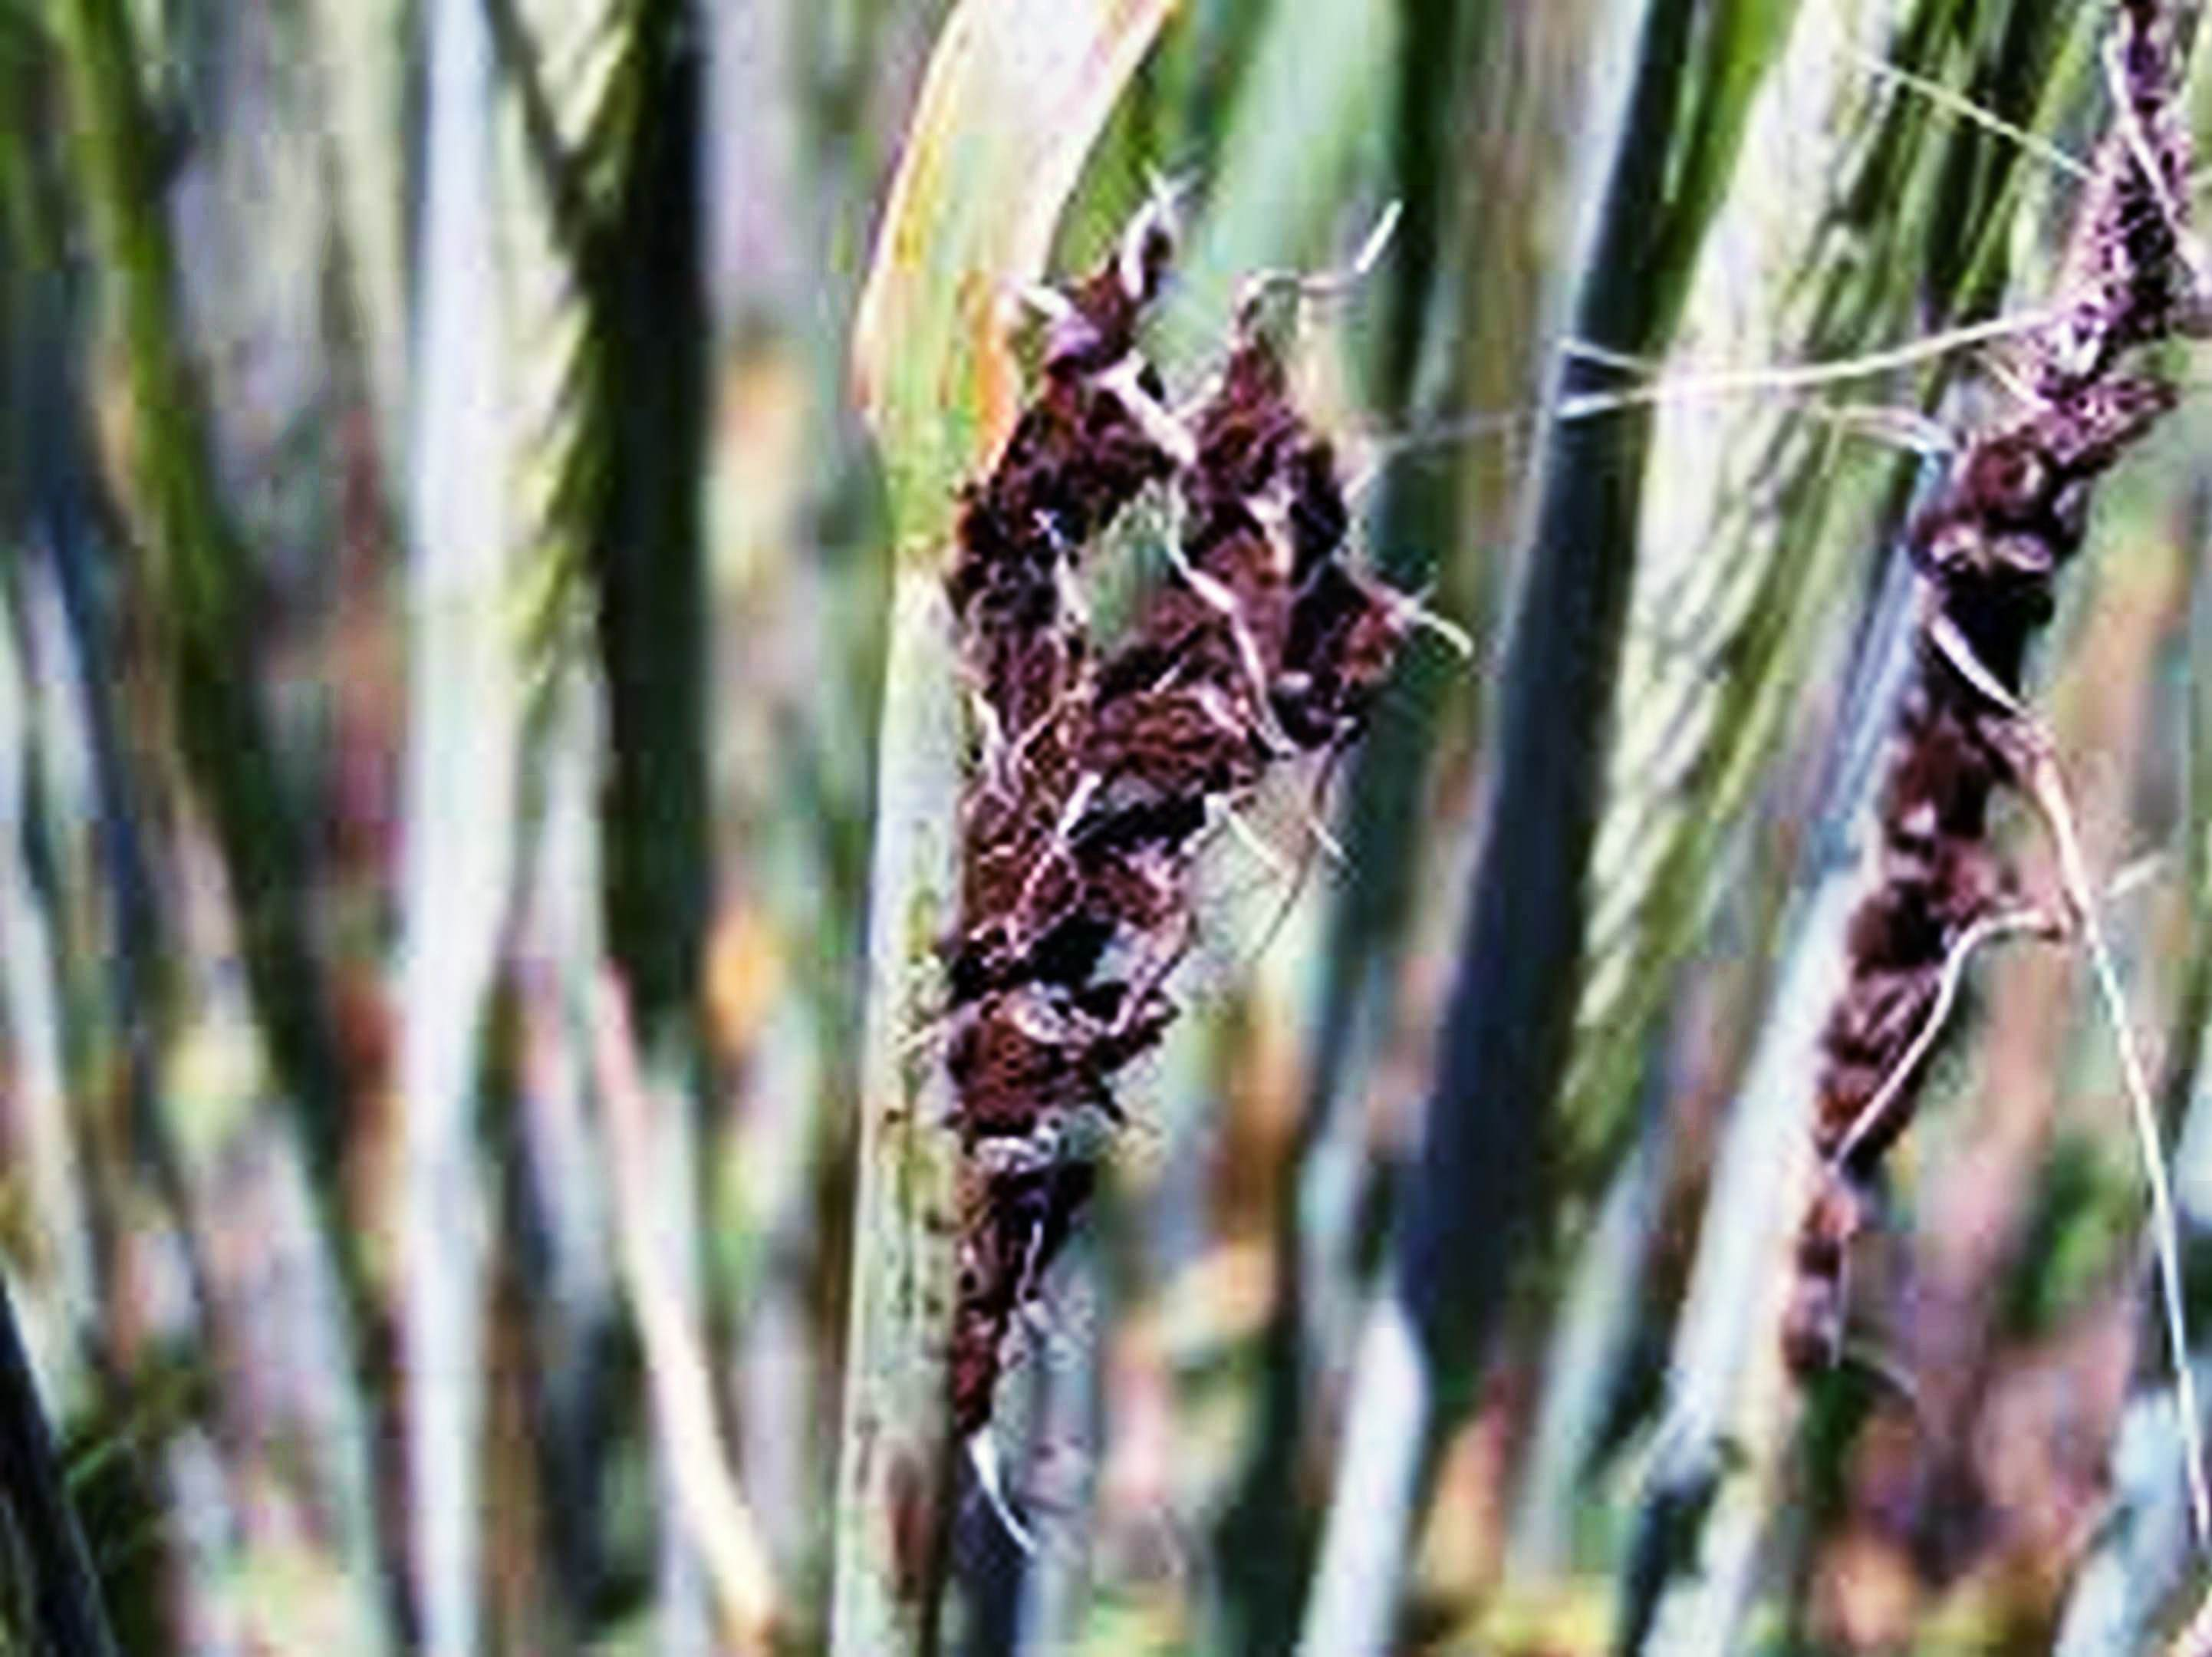Wheat Loose Smut: (957, 240, 1424, 1206)
